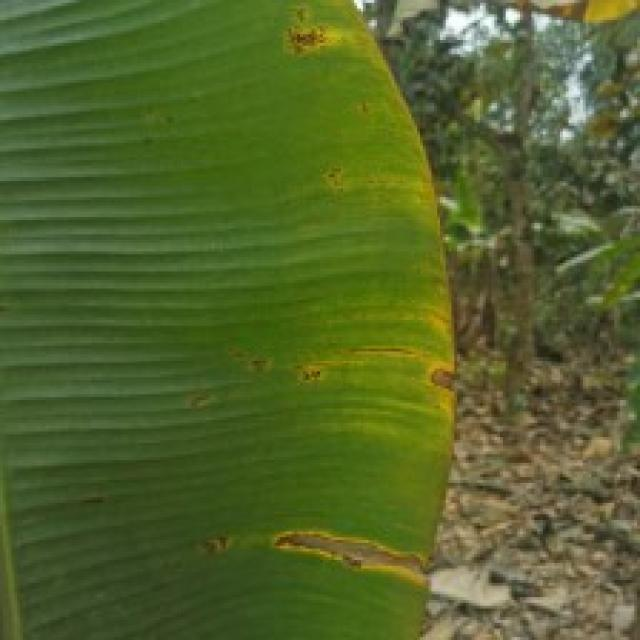Downey_mildrew: (250, 0, 460, 638), (162, 501, 286, 573)
